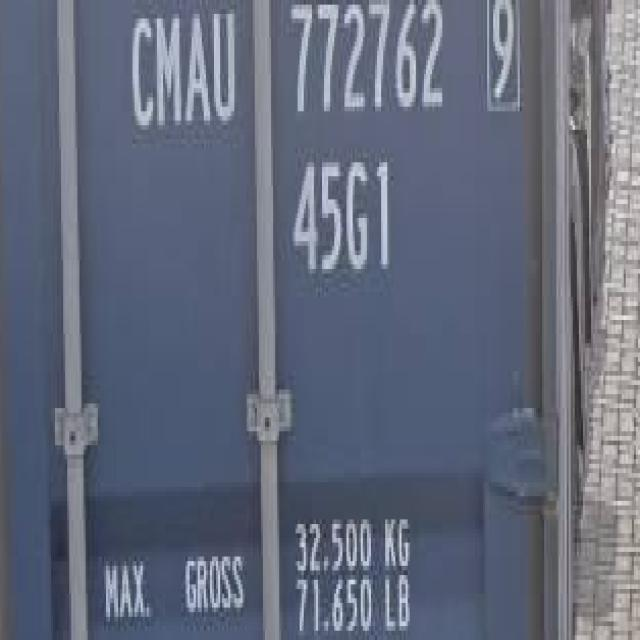dv: (483, 0, 522, 126)
owner: (127, 5, 242, 147)
serial: (284, 0, 451, 127)
size: (289, 151, 394, 288)
